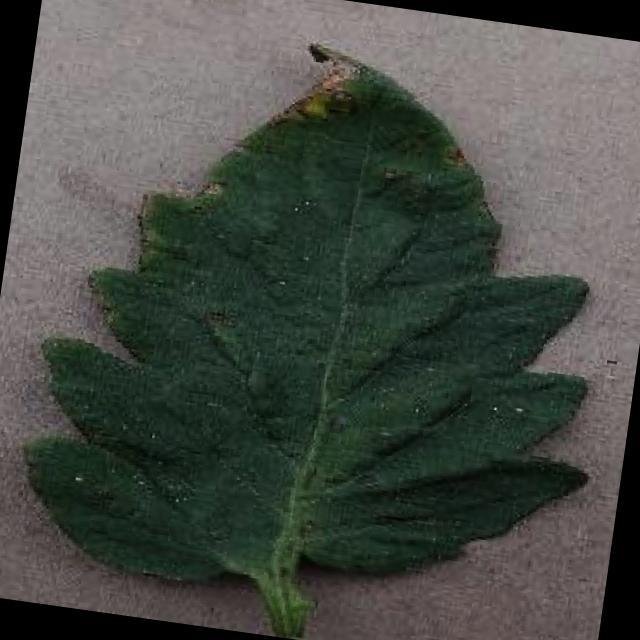Tomato bacterial spot leaf: (5, 5, 640, 639)
